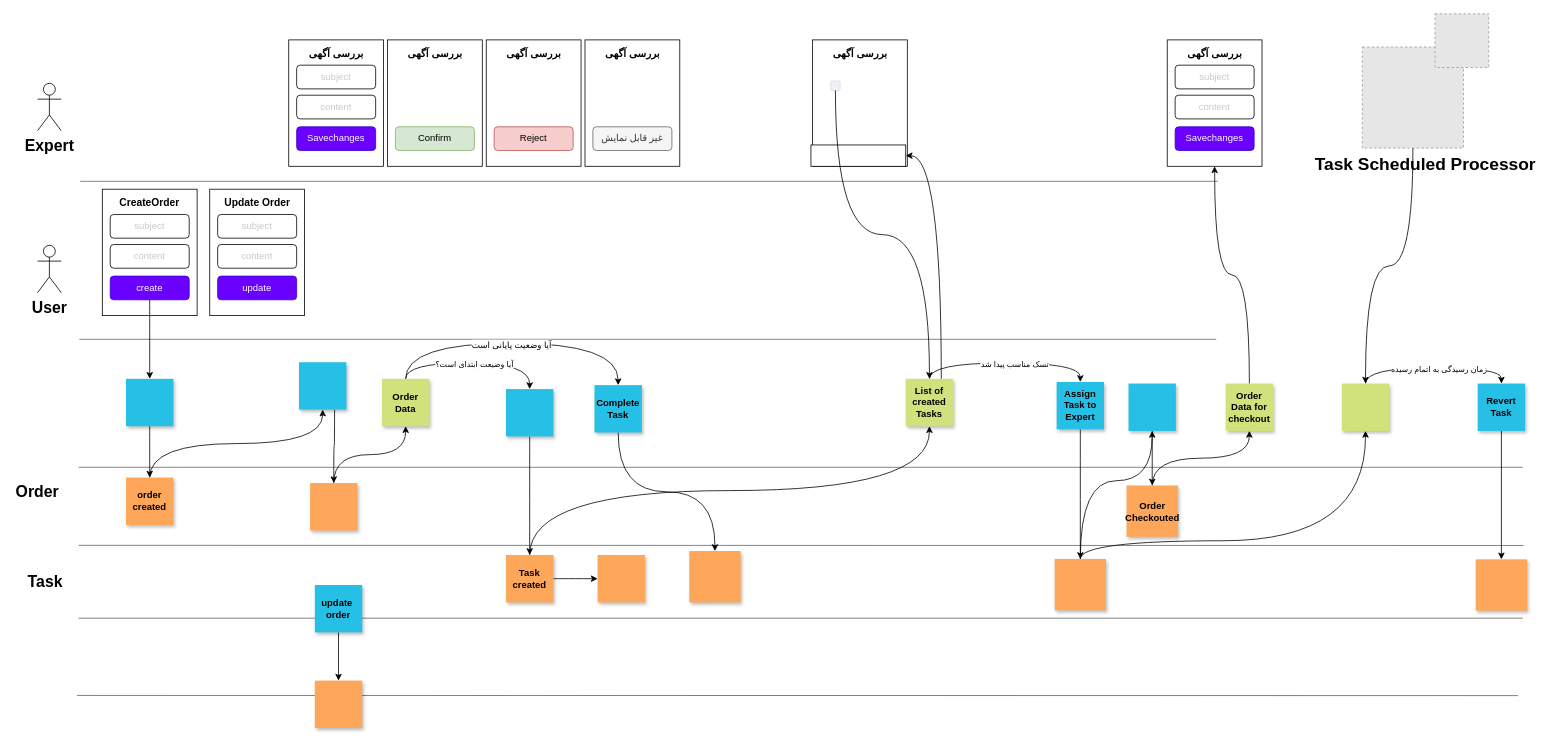
The diagram is 1551 pixels wide and 747 high, and some of its shapes have lost their labels. Grey dashed boxes stand in for pictures. The centre of each missing label's shape, as x and y in pixels:
"Change Status Of Order" goes at pixel 323 387.
"Checkout Order" goes at pixel 1152 408.
"create order" goes at pixel 150 403.
"Create Task" goes at pixel 530 414.
"List of In-Process Tasks" goes at pixel 1366 408.
"Order status changed" goes at pixel 334 508.
"order updated" goes at pixel 339 705.
"Task Assigned To Expert" goes at pixel 1080 585.
"Task assigned To Role" goes at pixel 621 579.
"Task compeleted" goes at pixel 715 577.
"Task Reverted" goes at pixel 1501 586.
"آماده چکاوت" goes at pixel 835 85.
"آگهی مناسبی پیدا نشد" goes at pixel 858 155.
